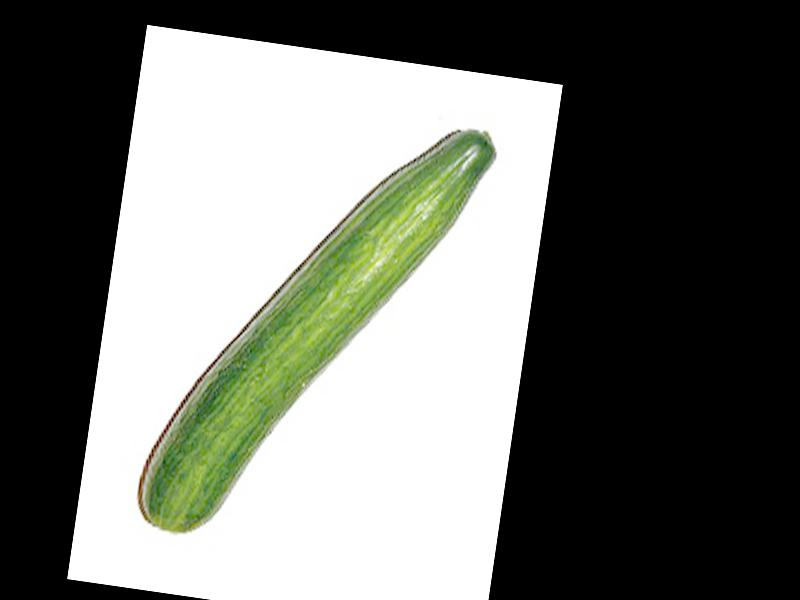Cucumber: (134, 89, 499, 570)
